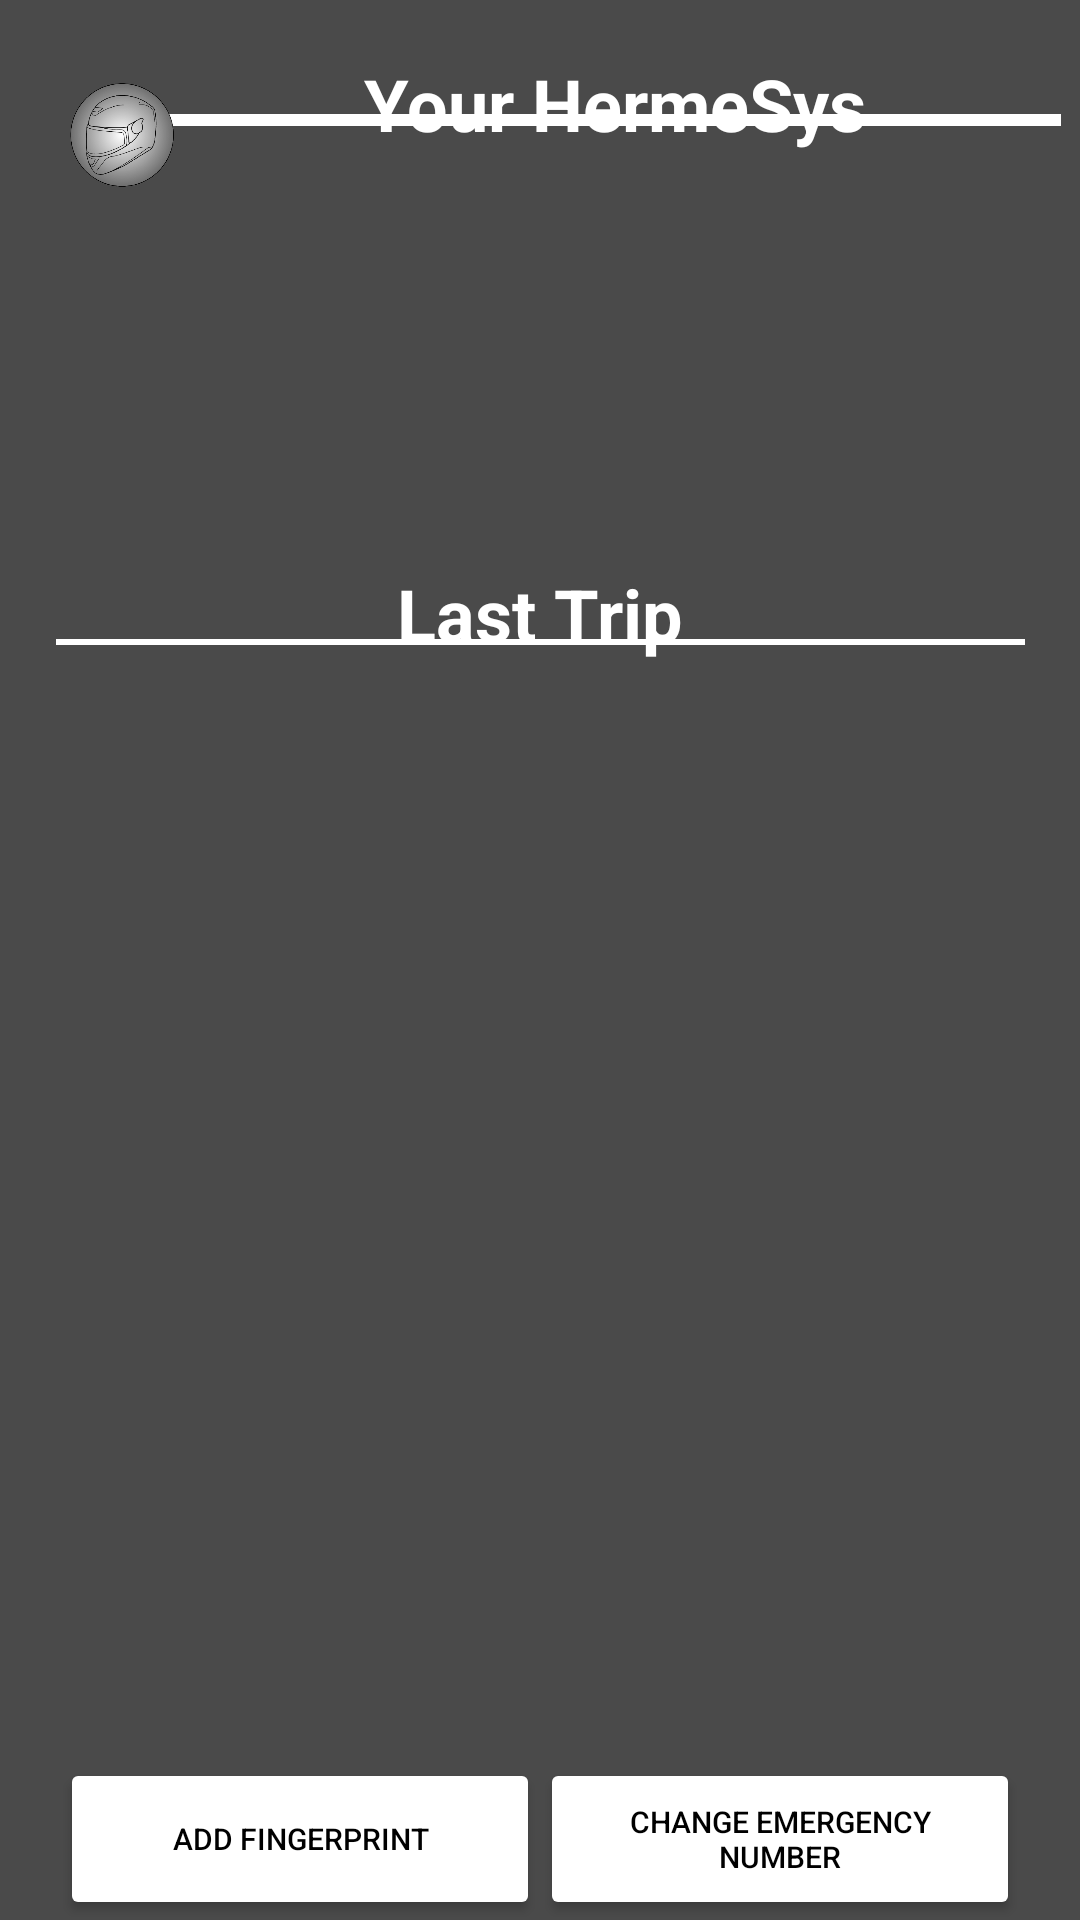

Where icons sit on this 1080*1920 app screen, as (x1, y1, x2, y2):
capacet: (70, 83, 216, 187)
